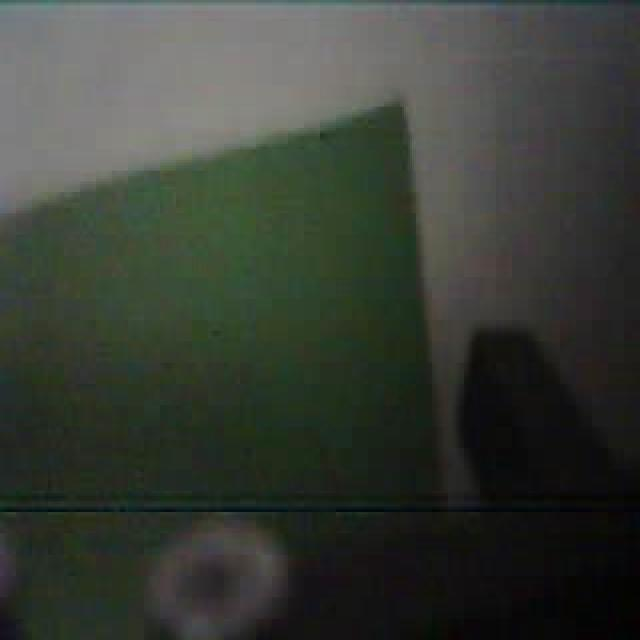green_box: (1, 132, 458, 626)
